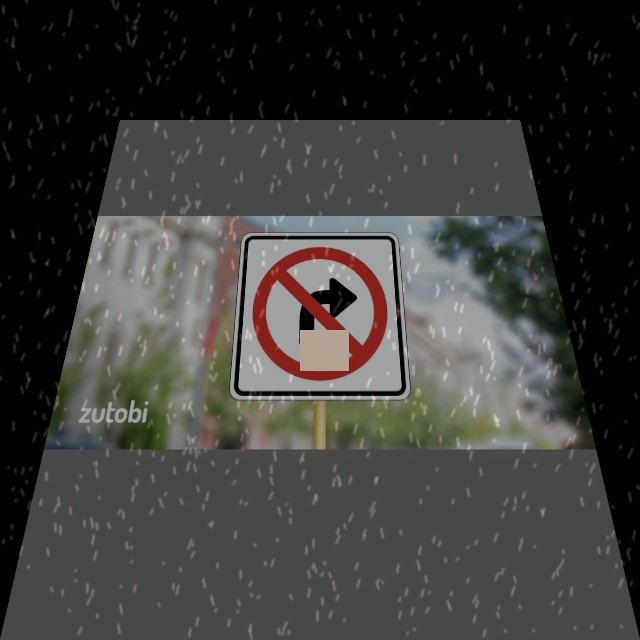Right_Turn_Prohibited: (245, 242, 399, 386)
